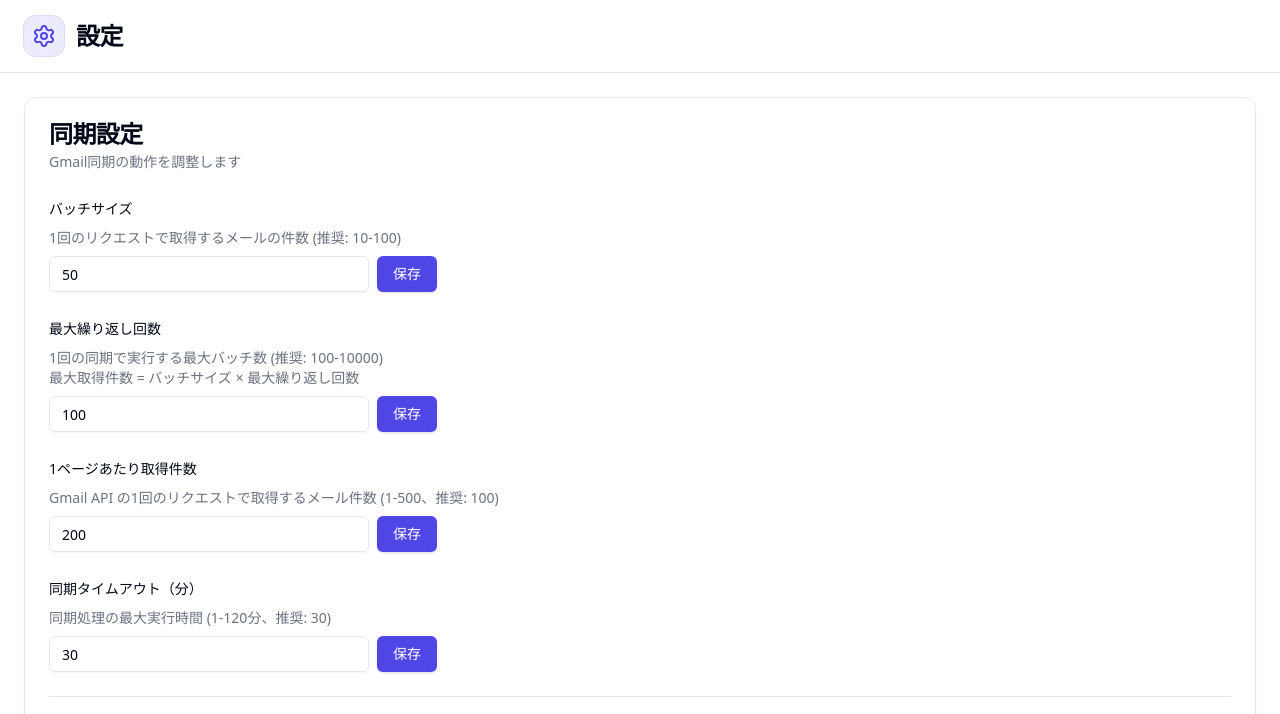
Test: Settings › handleSaveMaxResultsPerPage › saves max results per page successfully
Expected: the number field with id "max-results-per-page" holds "200", [49,516,369,552]
What coordinates should you click on to do the following:
click the button with aria-label "1ページあたり取得件数を保存"
I would click on:
 (407, 534)
Its box is [377,516,437,552].
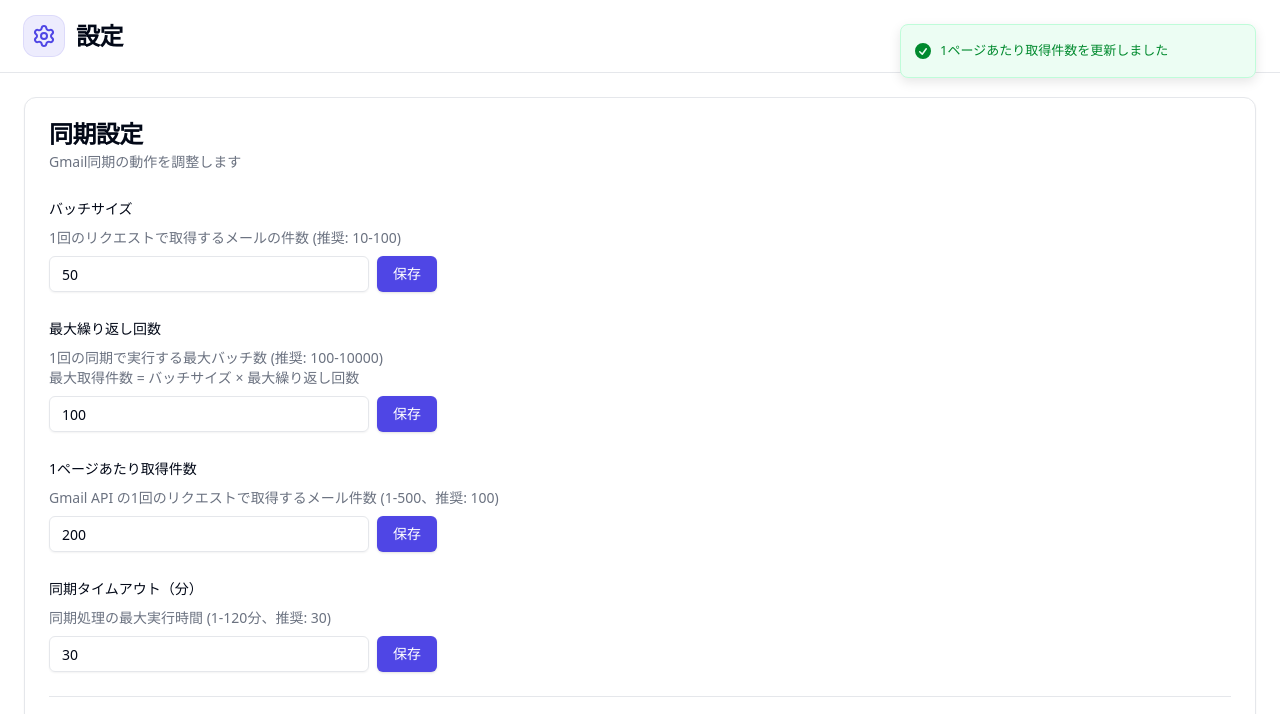
Result: the text "1ページあたり取得件数を更新しました" is shown at [940,41,1168,60]
